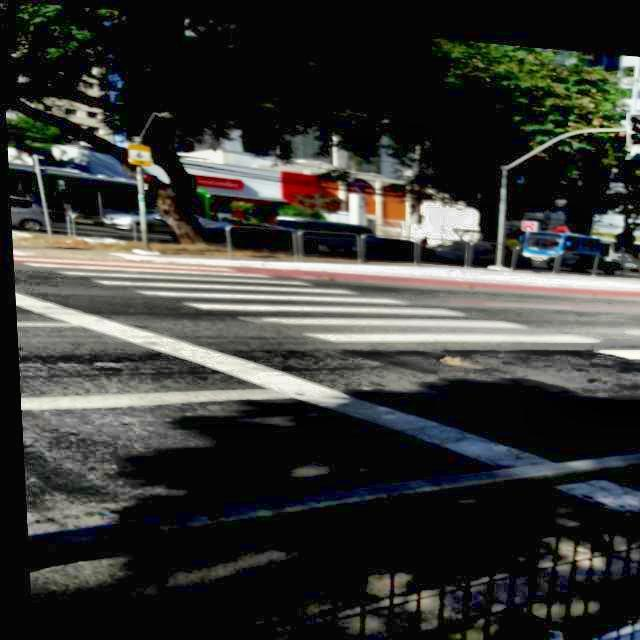faixa de pedestre: (34, 264, 625, 356)
